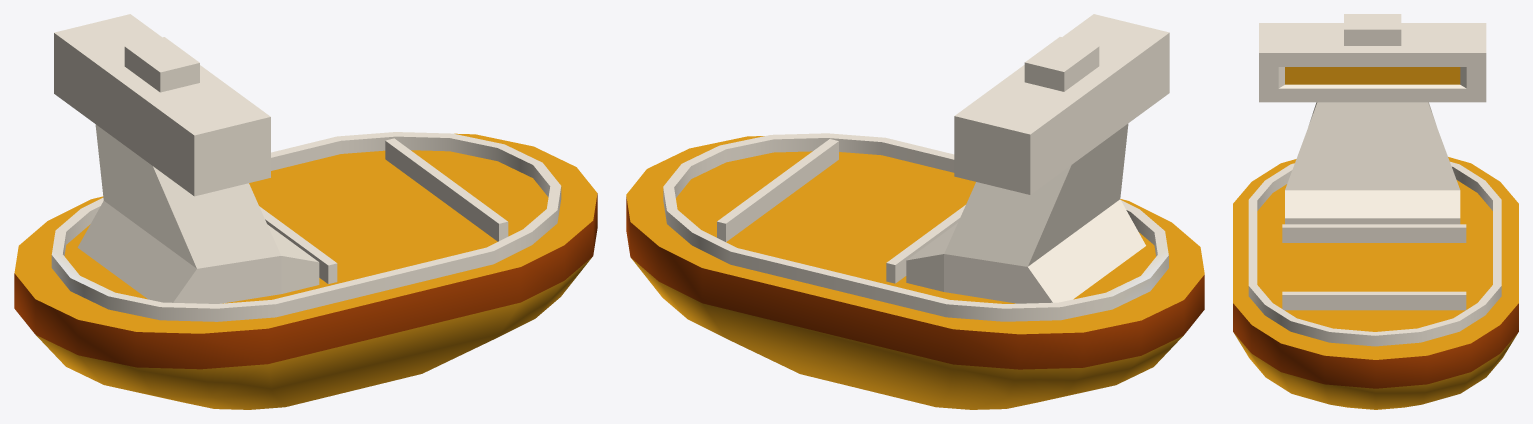
Rendered from Ship.fbx.
3 renders of one model, left to right at view 1: azimuth 30°, elevation 25°; view 2: azimuth 150°, elevation 25°; view 3: azimuth 270°, elevation 25°, orthographic. The views are drawn at different scales.
Visible parts, largest first — view 1: ShipSmall; view 2: ShipSmall; view 3: ShipSmall.
Part boxes in pixels (x1,y1,x2,y2): ShipSmall: (14,14,597,409); ShipSmall: (626,14,1204,409); ShipSmall: (1233,14,1518,409).
Size of the model in its own units: 234 by 140 by 132.
